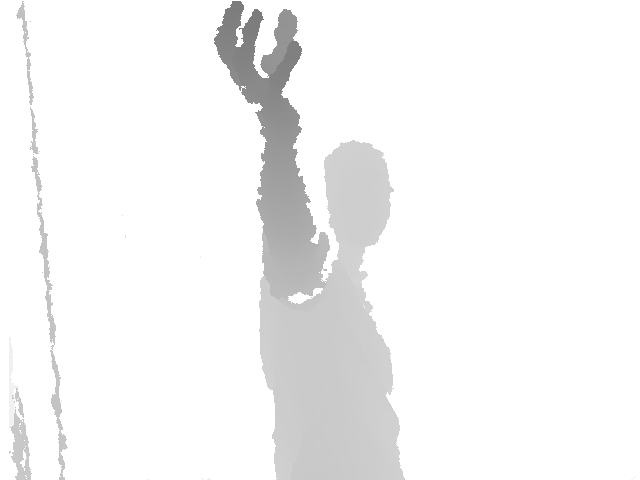hand: (213, 1, 303, 122)
head: (324, 140, 394, 257)
person: (212, 1, 409, 480)
